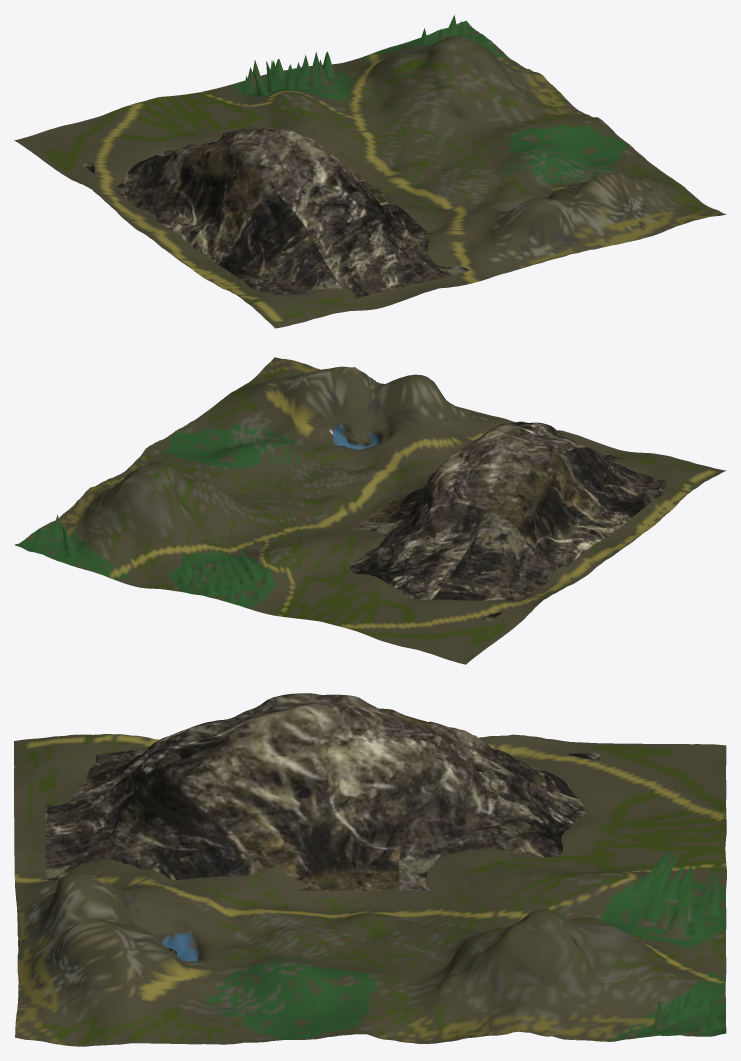
File: map.glb
3 views of the same model, one above another, from view 1: azimuth 30°, elevation 25°; view 2: azimuth 150°, elevation 25°; view 3: azimuth 270°, elevation 25° (orthographic). The views are drawn at different scales.
Parts seen in each view (by area): view 1: Landscape, Landscape.001; view 2: Landscape, Landscape.001; view 3: Landscape, Landscape.001.
Boxes of the visible parts, box(x1,y1,x2,y2) form: Landscape: box(14, 15, 726, 328); Landscape.001: box(82, 127, 470, 298); Landscape: box(14, 357, 725, 664); Landscape.001: box(350, 421, 667, 620); Landscape: box(14, 734, 726, 1046); Landscape.001: box(45, 693, 599, 890).
Size of the model in its own units: 9.01 by 1.93 by 9.01.
1 material, 1 textured.
